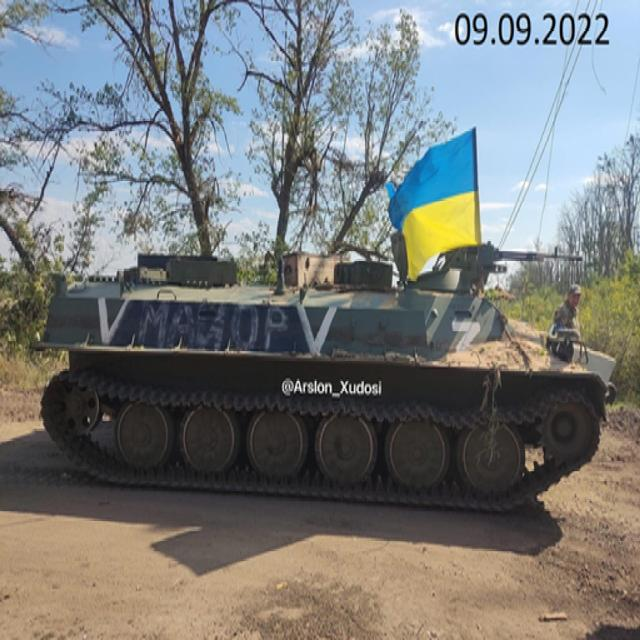APC-IFV: (33, 220, 612, 540)
